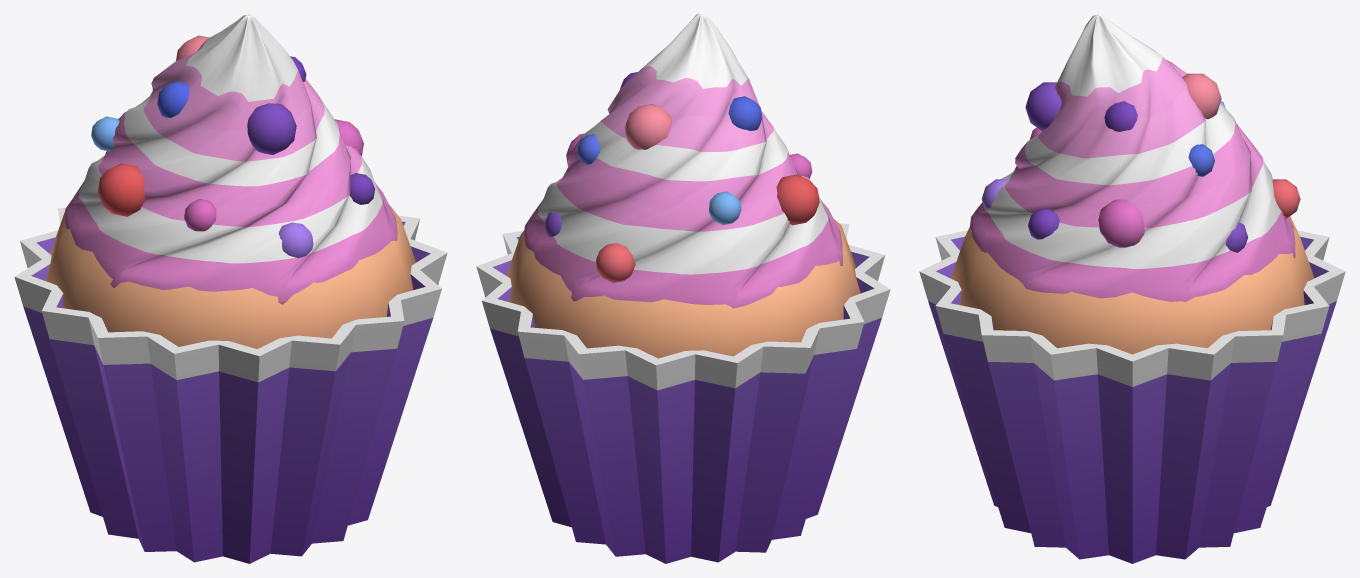
Rendered from Cupcake.fbx.
3 views of the same model, side by side, from view 1: azimuth 30°, elevation 25°; view 2: azimuth 150°, elevation 25°; view 3: azimuth 270°, elevation 25° (orthographic). The views are drawn at different scales.
Parts seen in each view (by area): view 1: Cupcake; view 2: Cupcake; view 3: Cupcake.
Boxes of the visible parts, left/top/right/bottom form: Cupcake: left=14, top=14, right=447, bottom=563; Cupcake: left=476, top=14, right=890, bottom=563; Cupcake: left=919, top=14, right=1345, bottom=563.
Size of the model in its own units: 15.34 by 19.46 by 15.34.
